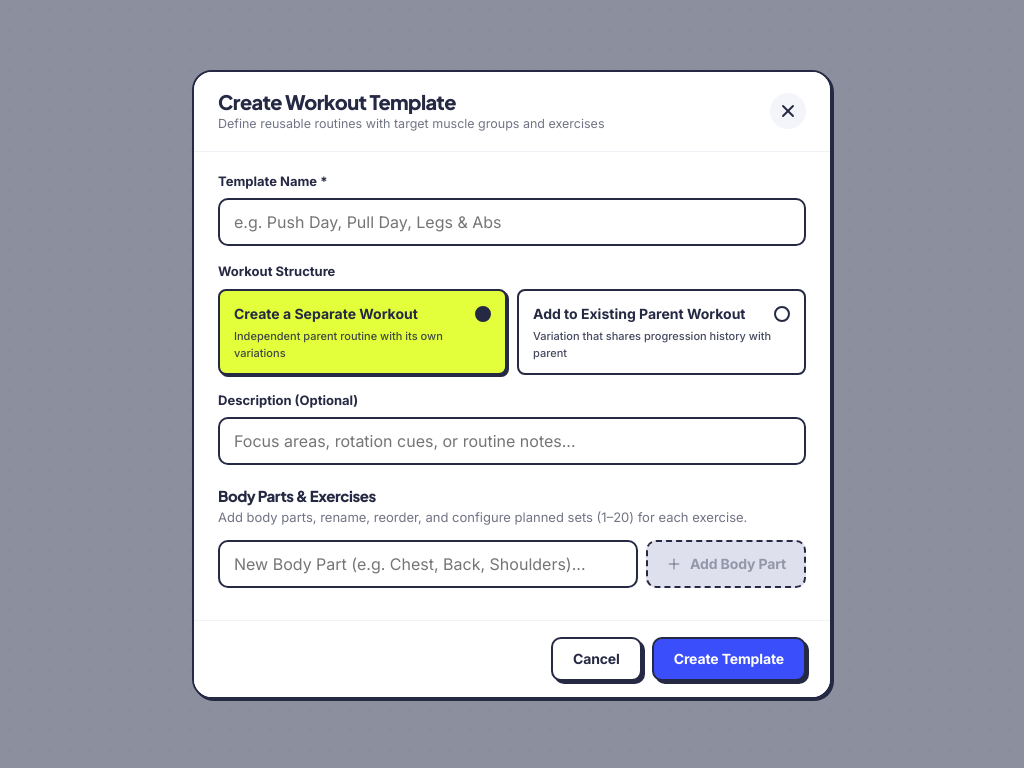
it: GymTemplateModal - Parent Workout Architecture & UI Selection › shows an appropriate message when Option B is selected but no parent workouts exist
Click the button "Add to Existing Parent Workout" at (662, 332), box [517,289,806,375]
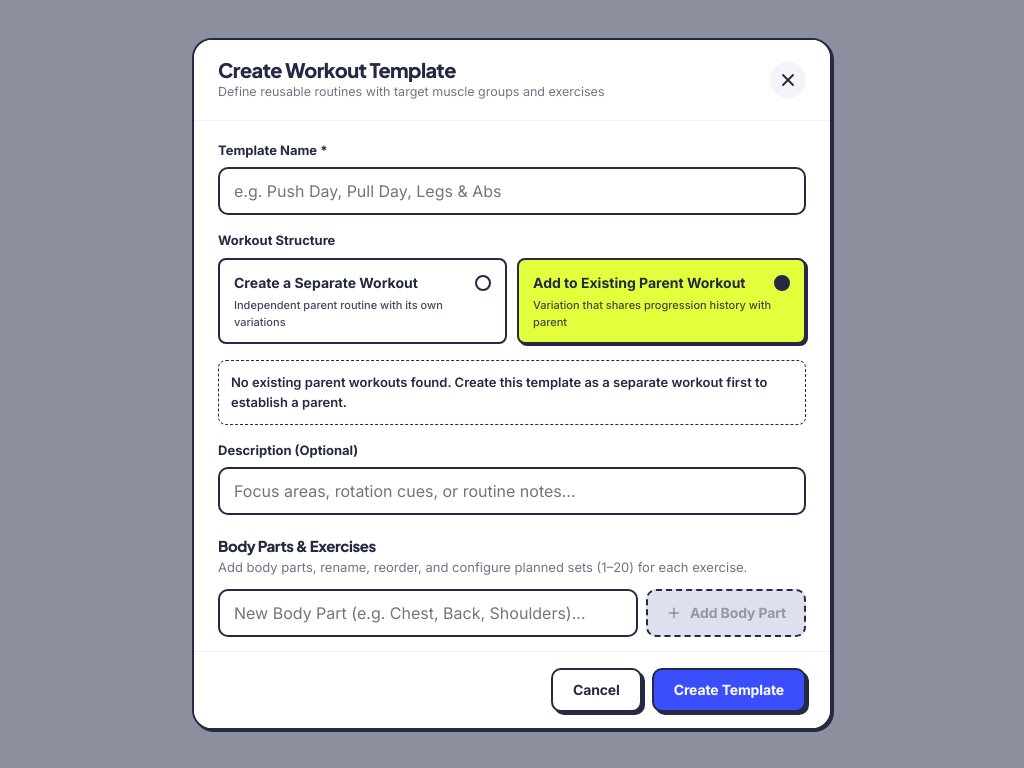
Expected: the text "no existing parent workouts found. create this template as a separate workout first" is shown, [231,374,767,410]
